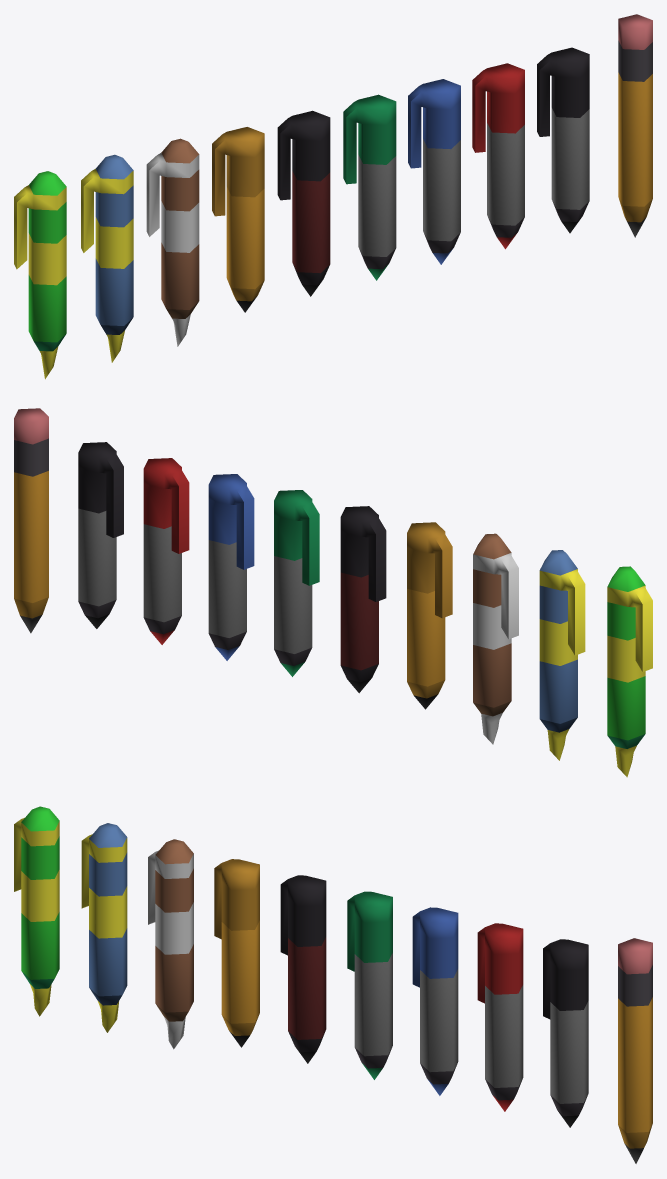
The model's file is Pens.fbx.
The picture shows the model from 3 angles, top to bottom: view 1: azimuth 30°, elevation 25°; view 2: azimuth 150°, elevation 25°; view 3: azimuth 330°, elevation 25°; orthographic projection.
Visible parts, largest first — view 1: PenFancy, PenFancyCentcom, PenFancyCaptain, PenGreen, PenSyndicate, PenBrass, PenBlack, PenBlue, PenRed, Pencil; view 2: PenFancyCaptain, PenFancyCentcom, PenFancy, PenBlue, PenRed, PenSyndicate, Pencil, PenBrass, PenBlack, PenGreen; view 3: PenFancyCaptain, PenFancy, PenFancyCentcom, PenSyndicate, PenBlue, PenRed, Pencil, PenGreen, PenBlack, PenBrass.
Boxes of the visible parts, x1,y1,x2,y2 form: PenFancy: (146,138,199,346); PenFancyCentcom: (14,171,66,379); PenFancyCaptain: (81,154,133,362); PenGreen: (343,94,396,280); PenSyndicate: (277,110,330,296); PenBrass: (212,127,264,312); PenBlack: (537,47,589,233); PenBlue: (408,79,460,264); PenRed: (472,63,524,249); Pencil: (618,14,652,237); PenFancyCaptain: (539,550,585,760); PenFancyCentcom: (607,566,652,777); PenFancy: (473,533,518,744); PenBlue: (208,474,254,660); PenRed: (143,458,189,644); PenSyndicate: (340,506,386,693); Pencil: (14,408,48,633); PenBrass: (407,522,452,709); PenBlack: (78,442,123,628); PenGreen: (274,490,319,676); PenFancyCaptain: (81,823,127,1032); PenFancy: (148,839,193,1049); PenFancyCentcom: (14,806,59,1016); PenSyndicate: (280,875,326,1063); PenBlue: (412,907,458,1095); PenRed: (477,923,523,1111); Pencil: (618,938,652,1163); PenGreen: (347,891,392,1079); PenBlack: (543,939,588,1127); PenBrass: (214,859,259,1047).
Size of the model in its own units: 0.8518 by 0.2785 by 0.0428.
